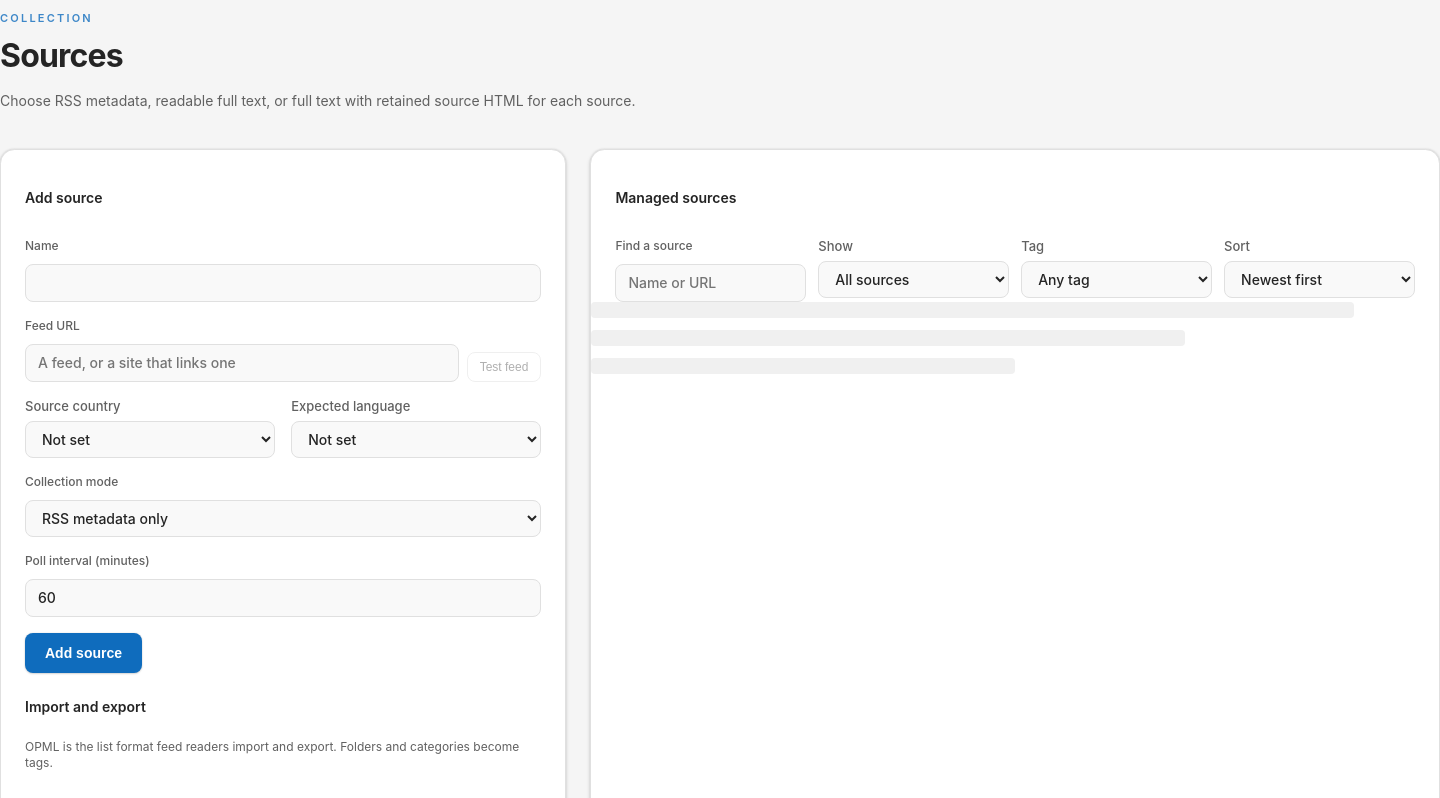
it: tests a site address, finds its feed and fills in what it found
This screenshot has width=1440, height=798.
Type "https://news.example/" into the field labelled "Feed URL" at (242, 363), box [25,344,459,382]
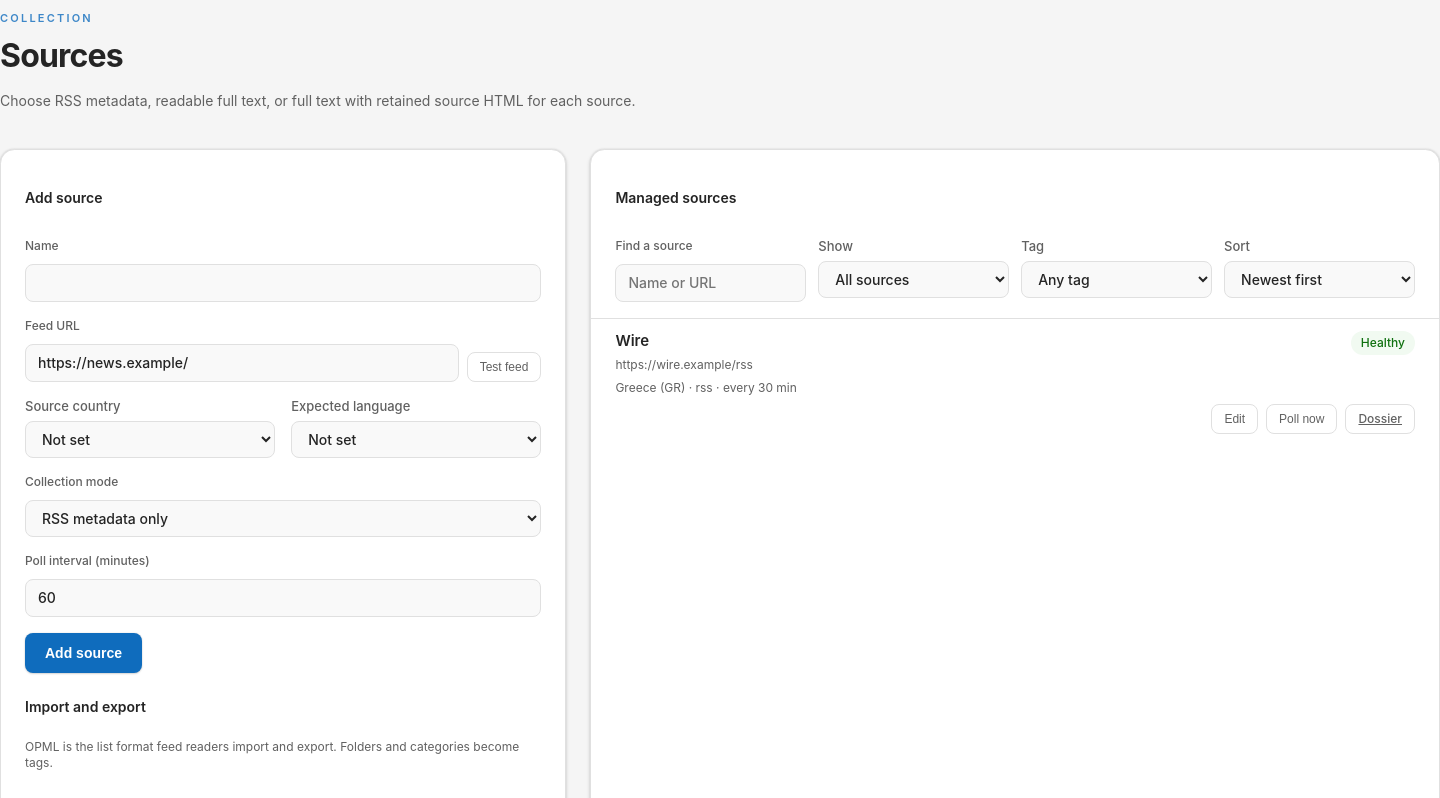
Click the button "Test feed" at (504, 367), box [467,352,541,382]
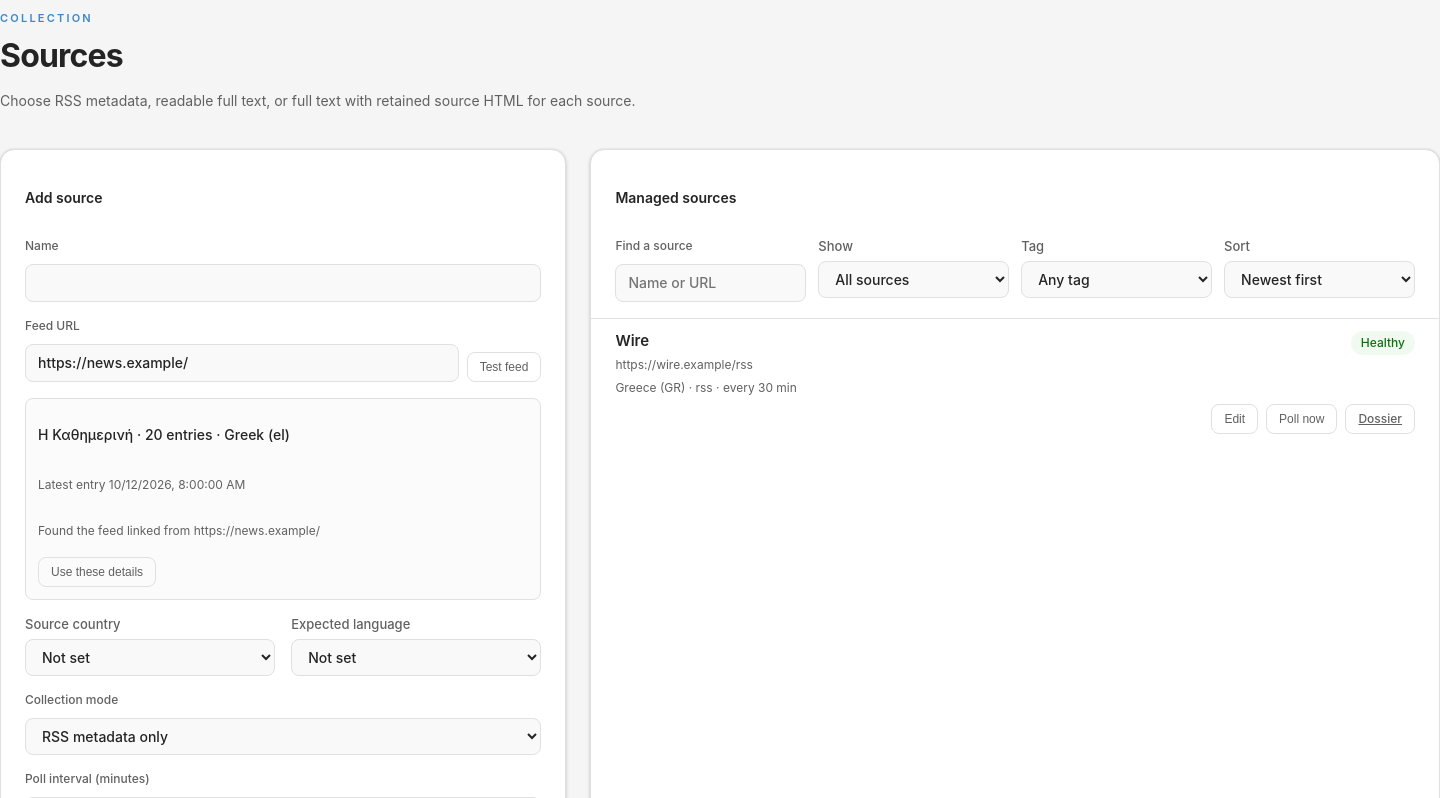
Check: the text "Η Καθημερινή · 20 entries · Greek (el)" is shown, box [38,426,290,443]
Check: the text "Found the feed linked from https://news.example/" is shown, box [38,523,320,538]
Click the button "Use these details" at (97, 572), box [38,557,156,587]
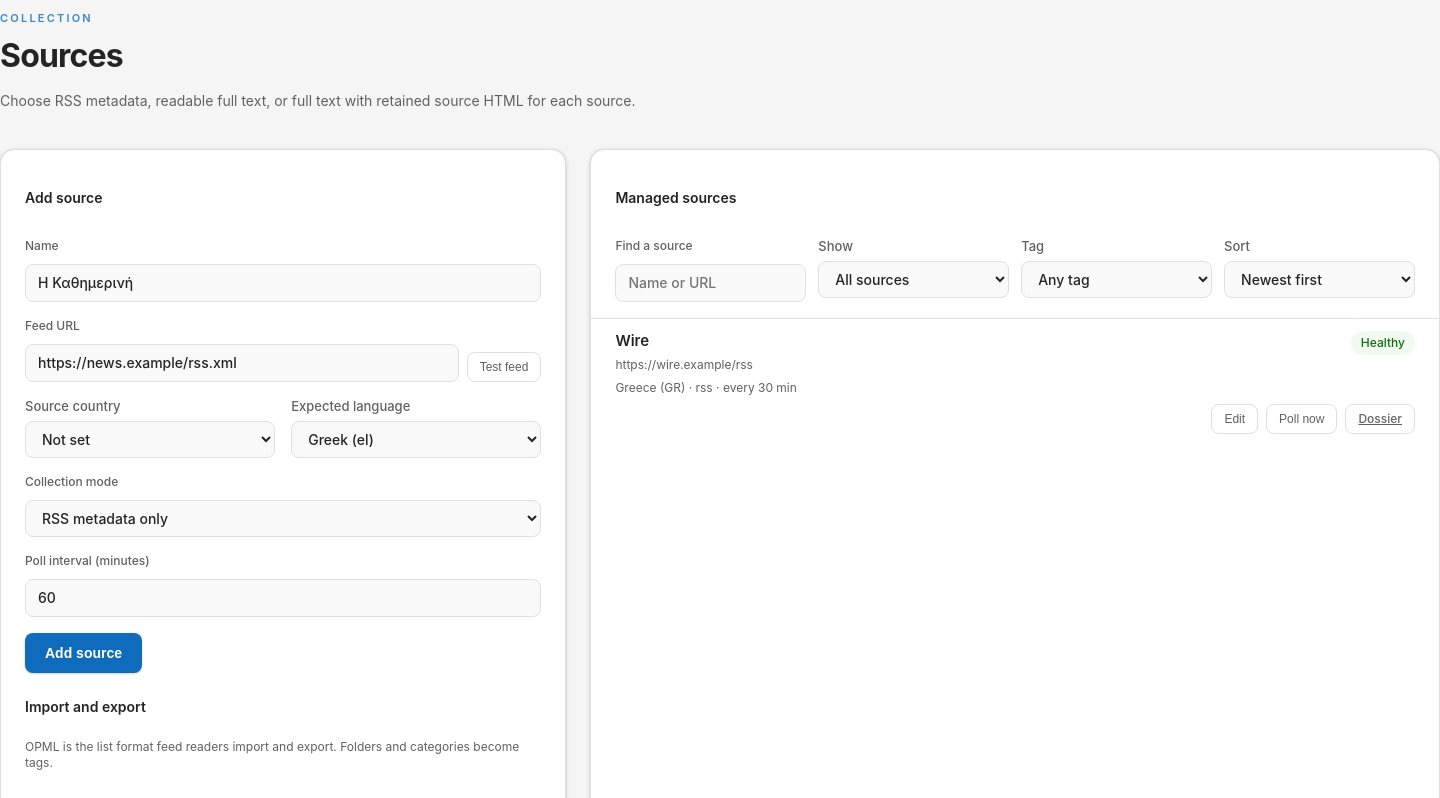
Check: the field labelled "Name" holds "Η Καθημερινή", box [25,264,541,302]
Check: the field labelled "Feed URL" holds "https://news.example/rss.xml", box [25,344,459,382]
Check: the dropdown labelled "Expected language" shows "Greek (el)", box [291,421,541,458]
